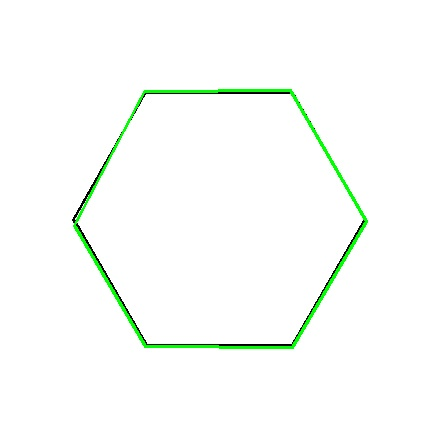line_segment: (72, 90, 367, 348)
